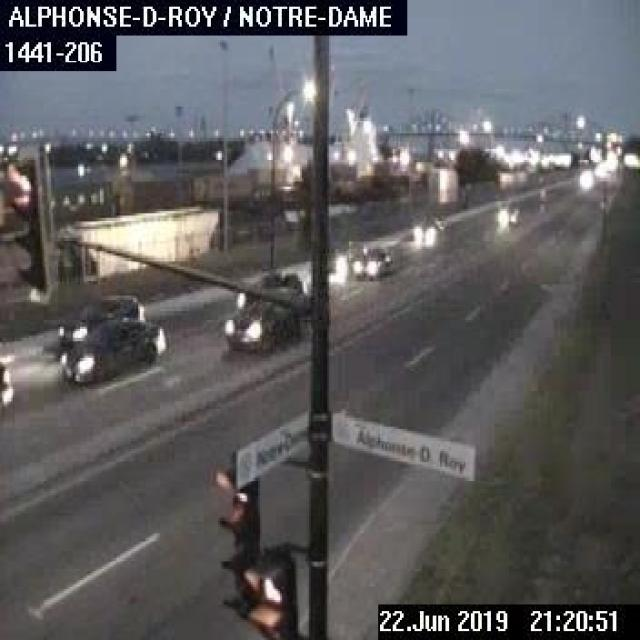vehicle: (53, 315, 165, 382), (54, 290, 145, 345), (224, 291, 302, 349), (231, 269, 310, 309), (348, 247, 387, 278), (0, 353, 13, 409), (412, 218, 440, 244), (498, 205, 518, 222)
